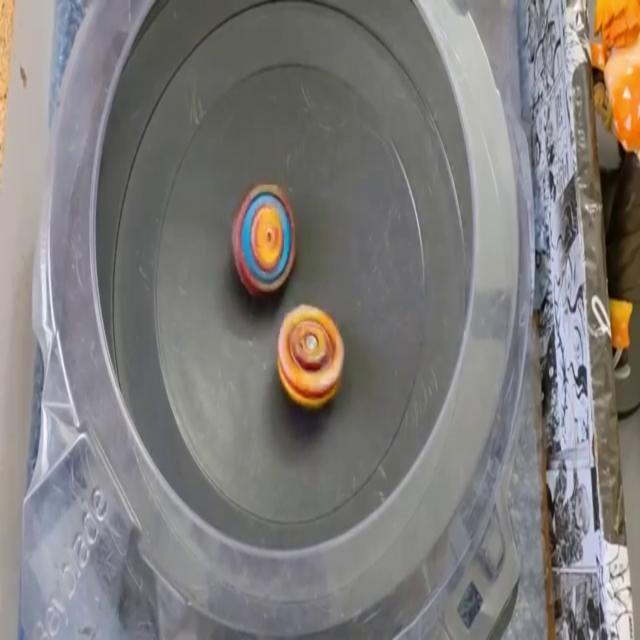Beyblade: (233, 183, 296, 299), (279, 310, 345, 410)
